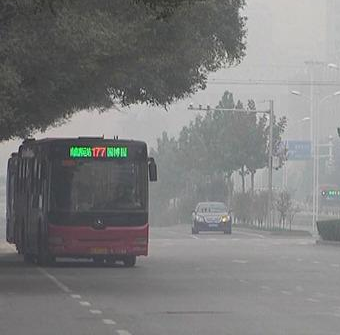car: (6, 134, 157, 268), (192, 202, 232, 236)
